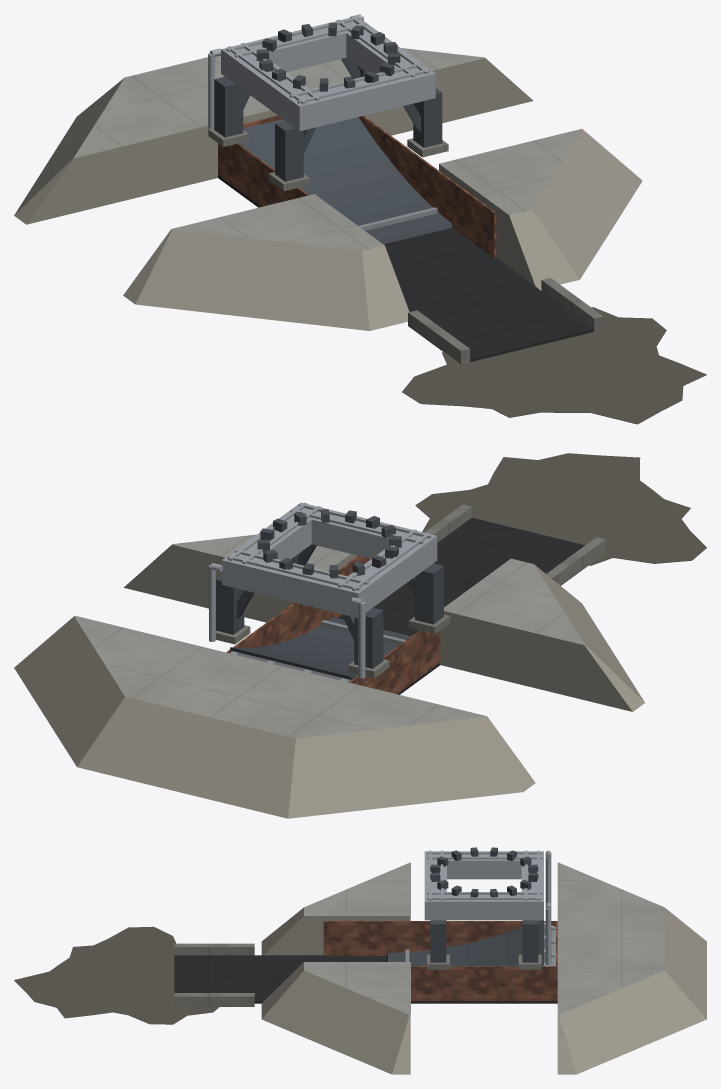
File: mount_olm2.glb
The picture shows the model from 3 angles, top to bottom: view 1: azimuth 30°, elevation 25°; view 2: azimuth 150°, elevation 25°; view 3: azimuth 270°, elevation 25°; orthographic projection. The views are drawn at different scales.
Parts seen in each view (by area): view 1: mount_olm2; view 2: mount_olm2; view 3: mount_olm2.
Part boxes in pixels (x1,y1,x2,y2): mount_olm2: (14,14,706,424); mount_olm2: (14,453,706,818); mount_olm2: (14,847,706,1074).
Size of the model in its own units: 19.4 by 5.3 by 30.19.
9 materials, 4 textured.
